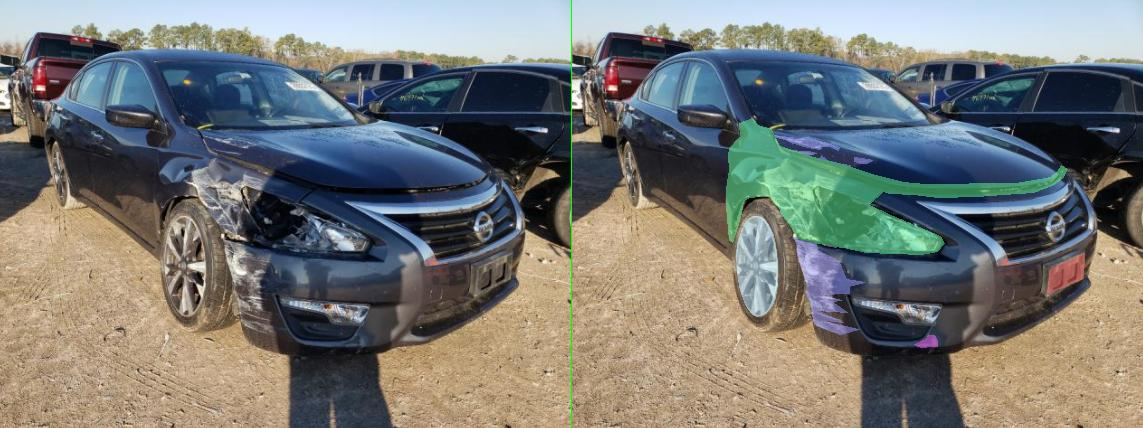Broken part: (308, 118, 627, 247), (408, 146, 991, 197), (480, 185, 745, 254)
Corrosion: (328, 216, 410, 316)
Dent: (382, 162, 534, 247), (320, 155, 418, 186), (452, 243, 490, 277), (685, 335, 731, 347)
Missing part: (951, 253, 1025, 293)
Scratch: (368, 157, 534, 242), (442, 236, 585, 334), (374, 132, 534, 150), (494, 155, 556, 169), (428, 149, 488, 155), (564, 157, 601, 163)
